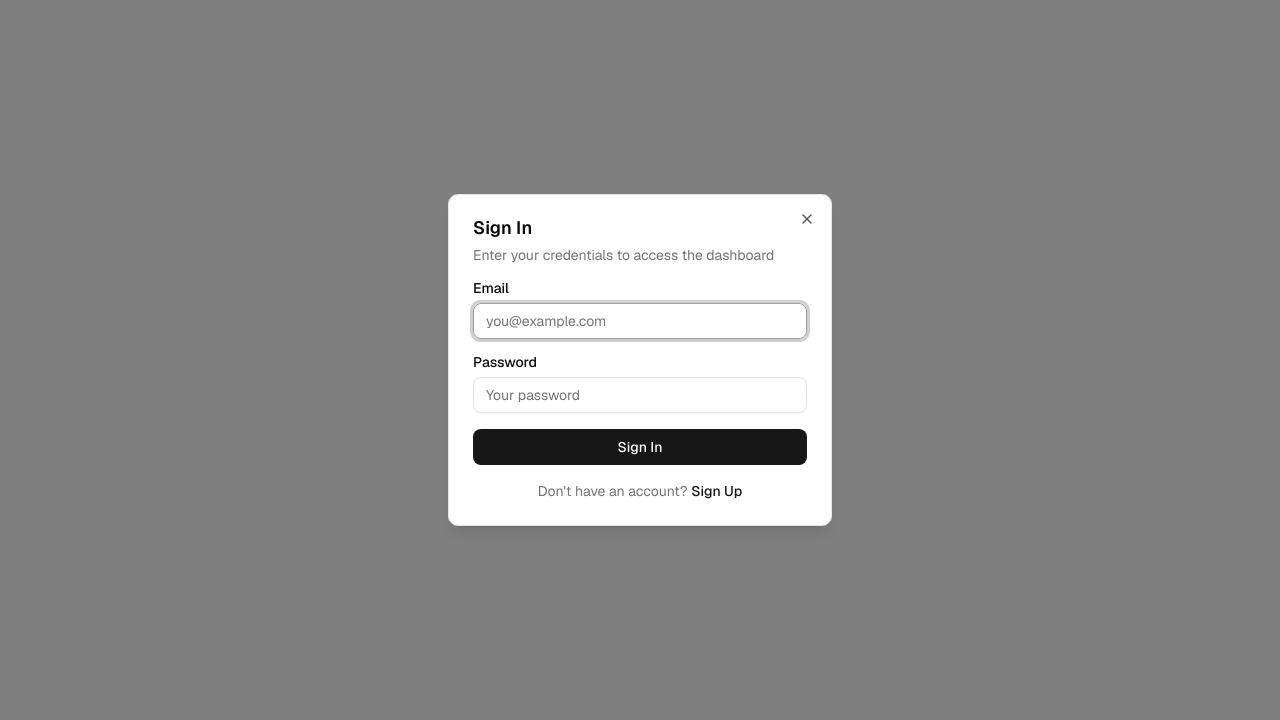
AuthDialog › switches to register mode and shows confirm password field
Click the button "Sign Up": (717, 491) [691,481,742,501]
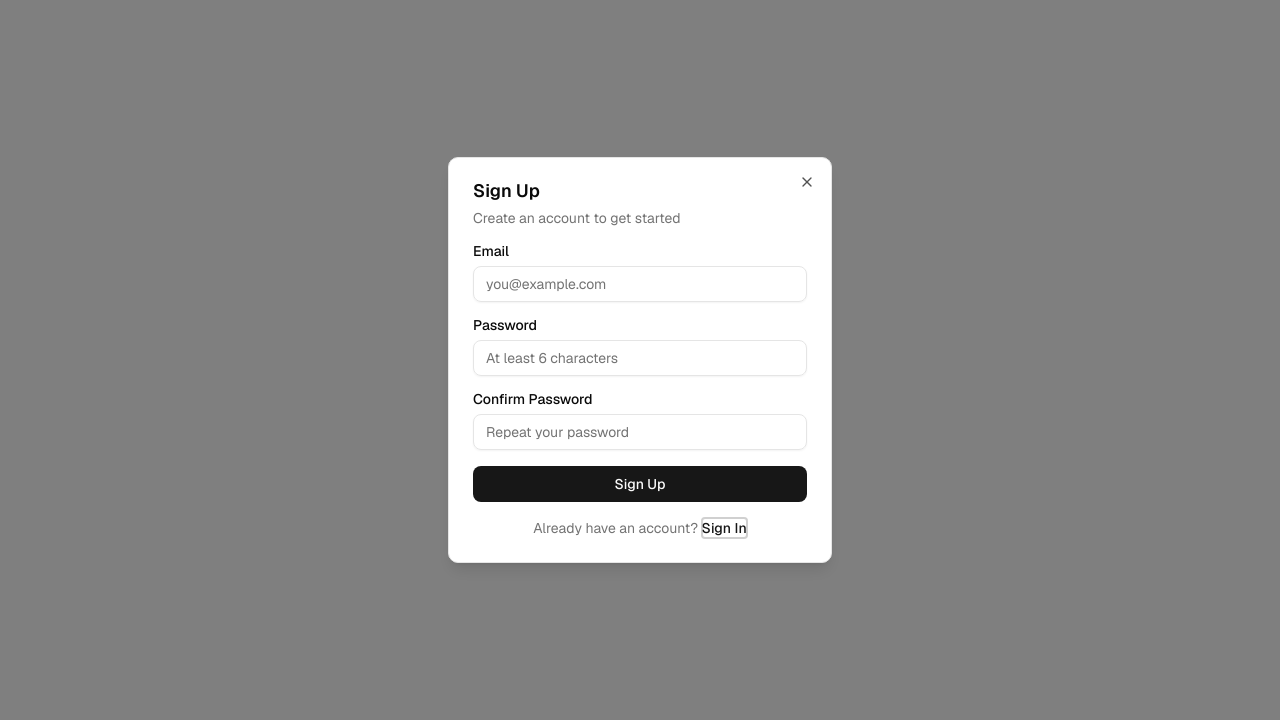
Expected: the password field labelled "Confirm Password" is shown, [473,414,807,450]
